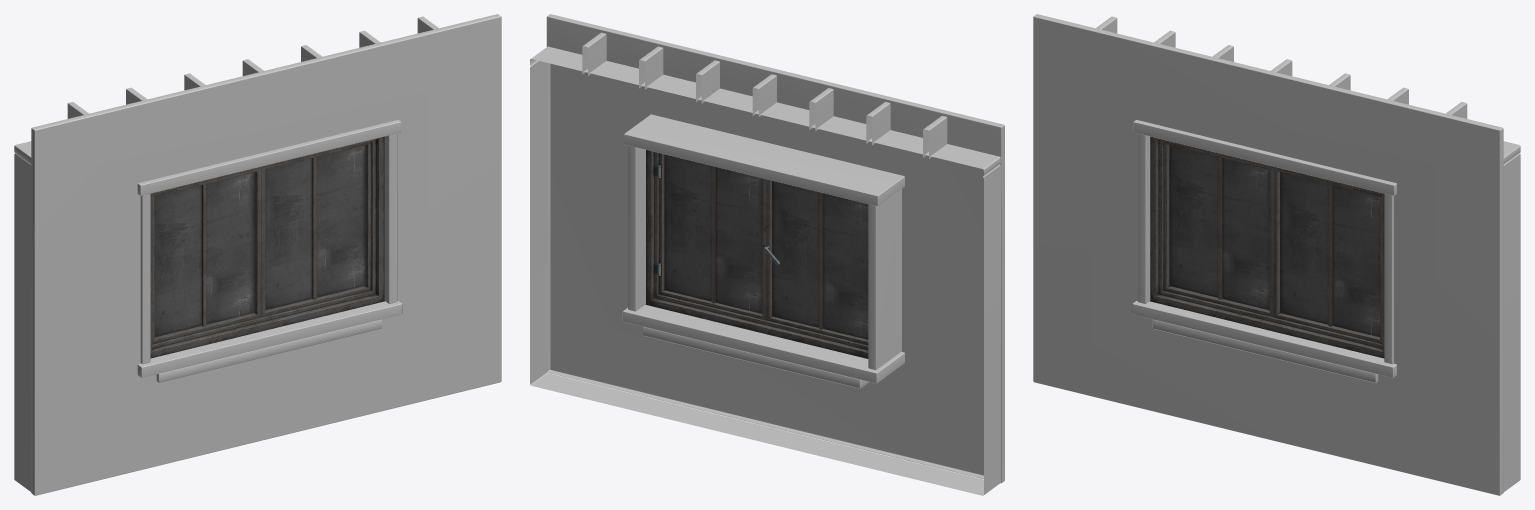
Rendered from Wall_02_ext_window.fbx.
The picture shows the model from 3 angles, left to right: view 1: azimuth 30°, elevation 25°; view 2: azimuth 150°, elevation 25°; view 3: azimuth 330°, elevation 25°; orthographic projection. The views are drawn at different scales.
Visible parts, largest first — view 1: Wall02_ext_window, Window1_Glass1, Window2; view 2: Wall02_ext_window, Window1_Glass1, Window2; view 3: Wall02_ext_window, Window1_Glass1, Window2.
Boxes of the visible parts, x1,y1,x2,y2 form: Wall02_ext_window: (14, 14, 501, 495); Window1_Glass1: (154, 145, 365, 337); Window2: (150, 136, 384, 358); Wall02_ext_window: (530, 14, 1004, 495); Window1_Glass1: (664, 154, 868, 339); Window2: (645, 150, 868, 358); Wall02_ext_window: (1033, 14, 1520, 495); Window1_Glass1: (1169, 145, 1380, 337); Window2: (1150, 136, 1384, 358).
Bounding box in the file's own units: 401 × 300 × 48.57.
